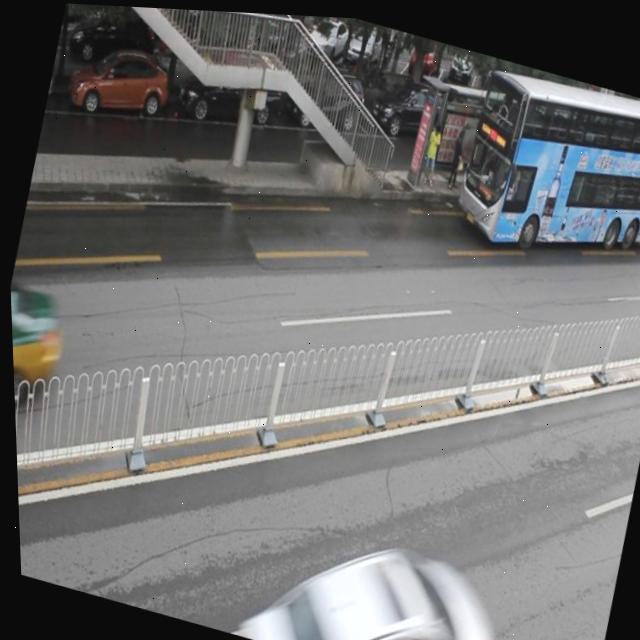car: (221, 499, 512, 640), (63, 35, 175, 133), (171, 50, 286, 142), (359, 67, 458, 155), (283, 56, 368, 136)
van: (443, 47, 640, 281)
